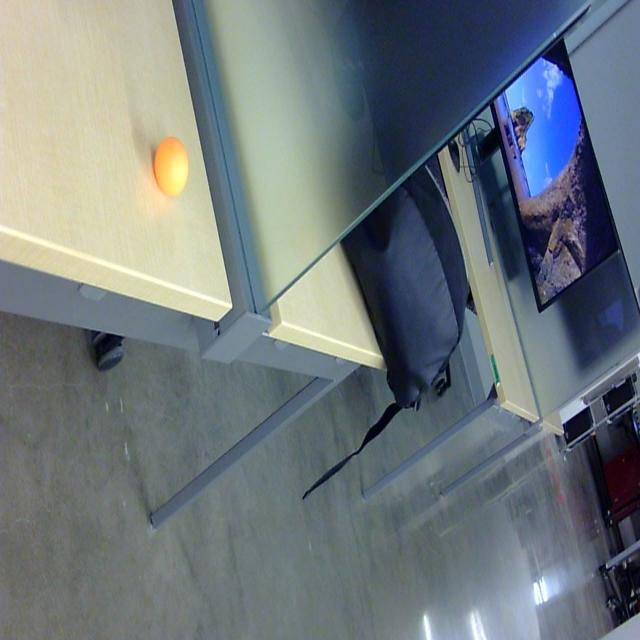ball: (152, 136, 192, 196)
